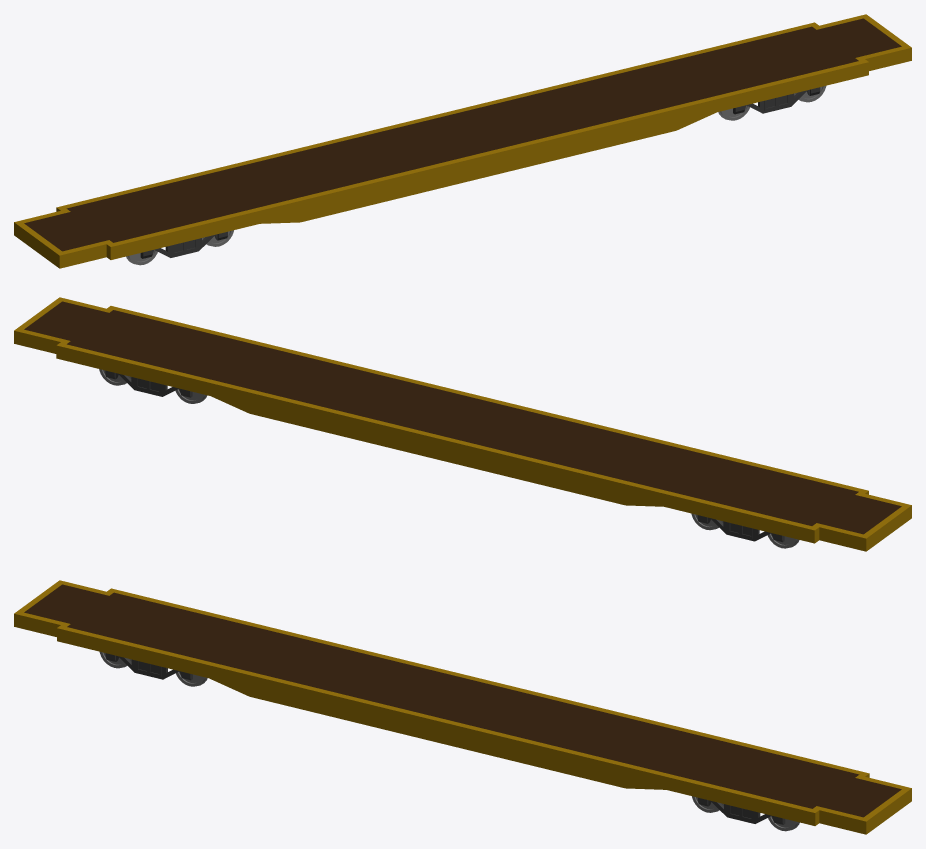
The model's file is flat_car.dae.
The picture shows the model from 3 angles, top to bottom: view 1: azimuth 30°, elevation 25°; view 2: azimuth 150°, elevation 25°; view 3: azimuth 330°, elevation 25°; orthographic projection.
Parts seen in each view (by area): view 1: group_1 (×2); view 2: group_1 (×2); view 3: group_1 (×2).
Boxes of the visible parts, <box> form: group_1 (×2): <box>14,14,911,268</box>; group_1 (×2): <box>14,297,911,551</box>; group_1 (×2): <box>14,580,911,834</box>.
Size of the model in its own units: 1088 by 120 by 47.36.
